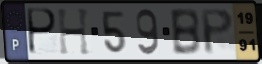5: (100, 10, 129, 55)
9: (134, 7, 161, 57)
B: (168, 7, 203, 57)
H: (55, 7, 92, 57)
P: (199, 7, 235, 57), (27, 7, 59, 57)
